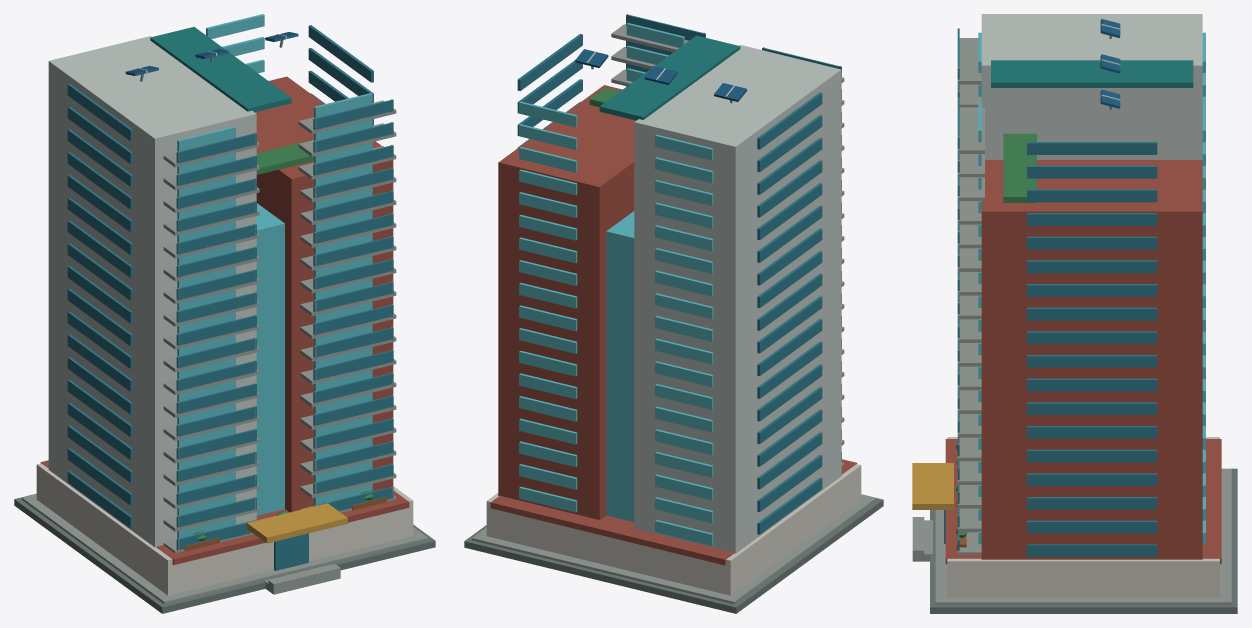
File: apartment_lv5.glb
3 renders of one model, left to right at view 1: azimuth 30°, elevation 25°; view 2: azimuth 150°, elevation 25°; view 3: azimuth 270°, elevation 25°, orthographic. The views are drawn at different scales.
Parts seen in each view (by area): view 1: rough, glossy, metallic; view 2: rough, glossy, metallic; view 3: rough, glossy, metallic.
Part boxes in pixels (left/top/right/bottom): rough: left=14, top=27, right=435, bottom=613; glossy: left=67, top=14, right=393, bottom=570; metallic: left=125, top=32, right=393, bottom=550; rough: left=464, top=24, right=883, bottom=613; glossy: left=517, top=15, right=841, bottom=545; metallic: left=575, top=14, right=841, bottom=103; rough: left=912, top=14, right=1237, bottom=613; glossy: left=944, top=29, right=1205, bottom=556; metallic: left=957, top=19, right=1120, bottom=539.
Bounding box in the file's own units: 9.8 × 16 × 9.73.
